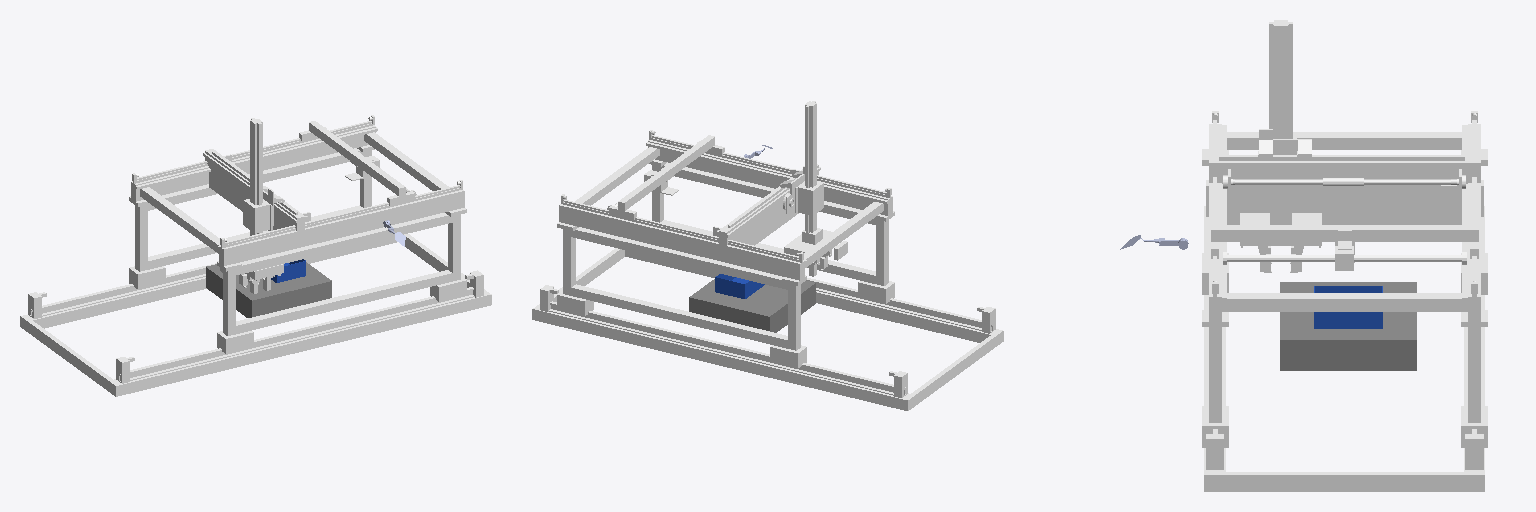
URDF robot description (assembly):
<?xml version="1.0" ?>
<!-- =================================================================================== -->
<!-- |    This document was autogenerated by xacro from assembly_rtfg_cpp/urdf/assembly_rtfg.urdf.xacro | -->
<!-- |    EDITING THIS FILE BY HAND IS NOT RECOMMENDED                                 | -->
<!-- =================================================================================== -->
<robot name="assembly">
  <material name="block_gray">
    <color rgba="0.6 0.6 0.6 0.8"/>
  </material>
  <material name="basin_blue">
    <color rgba="0.2 0.4 0.8 0.7"/>
  </material>
  <link name="sensor_shovel">
    <visual>
      <origin rpy="0 0 0" xyz="0 0 0"/>
      <geometry>
        <mesh filename="meshes/base_link.STL"/>
      </geometry>
      <material name="mat_sensor_shovel">
        <color rgba="0.79216078 0.81961176 0.92941569 1.00000000"/>
      </material>
    </visual>
    <collision>
      <origin rpy="0 0 0" xyz="0 0 0"/>
      <geometry>
        <mesh filename="meshes/base_link.STL"/>
      </geometry>
    </collision>
    <inertial>
      <origin rpy="0 0 0" xyz="-0.11585 0.0005511 0.051294"/>
      <mass value="2.3"/>
      <inertia ixx="0.0005331" ixy="0.0002664" ixz="0.0000158" iyy="0.0080026" iyz="0" izz="0.0082034"/>
    </inertial>
  </link>
  <link name="sensor_shovel_tcp">
    <visual>
      <origin rpy="0 0 0" xyz="0 0 0"/>
      <geometry>
        <mesh filename="meshes/shovel_tcp.STL"/>
      </geometry>
      <material name="mat_shovel_tcp">
        <color rgba="1.00000000 1.00000000 1.00000000 1.00000000"/>
      </material>
    </visual>
    <collision>
      <origin rpy="0 0 0" xyz="0 0 0"/>
      <geometry>
        <mesh filename="meshes/shovel_tcp.STL"/>
      </geometry>
    </collision>
    <inertial>
      <origin rpy="0 0 0" xyz="0 -0.0002919 -0.00005"/>
      <mass value="0"/>
      <inertia ixx="0" ixy="0" ixz="0" iyy="0" iyz="0" izz="0"/>
    </inertial>
  </link>
  <link name="ur10">
    <visual>
      <origin rpy="0 0 0" xyz="0 0 0"/>
      <geometry>
        <mesh filename="meshes/base.dae"/>
      </geometry>
      <material name="SWMaterial-2_001">
        <color rgba="0.37255294 0.37255294 0.37255294 1.00000000"/>
      </material>
    </visual>
    <collision>
      <origin rpy="0 0 0" xyz="0 0 0.019"/>
      <geometry>
        <cylinder length="0.038" radius="0.075"/>
      </geometry>
    </collision>
    <inertial>
      <origin rpy="0 0 0" xyz="0 0 0"/>
      <mass value="4"/>
      <inertia ixx="0.0061063" ixy="0" ixz="0" iyy="0.0061063" iyz="0" izz="0.01125"/>
    </inertial>
  </link>
  <link name="ur10_shoulder">
    <visual>
      <origin rpy="0 0 0" xyz="0 0 0"/>
      <geometry>
        <mesh filename="meshes/shoulder.dae"/>
      </geometry>
      <material name="SWMaterial-0">
        <color rgba="0.22353333 0.22353333 0.22353333 1.00000000"/>
      </material>
      <material name="SWMaterial-1">
        <color rgba="0.39216078 0.54118039 0.63921961 1.00000000"/>
      </material>
      <material name="SWMaterial-2">
        <color rgba="0.46274902 0.46274902 0.46274902 1.00000000"/>
      </material>
    </visual>
    <collision>
      <origin rpy="0 0 0" xyz="0 0 0"/>
      <geometry>
        <cylinder length="0.177" radius="0.075"/>
      </geometry>
    </collision>
    <inertial>
      <origin rpy="0 0 0" xyz="0 0 0"/>
      <mass value="7.778"/>
      <inertia ixx="0.0314743" ixy="0" ixz="0" iyy="0.0314743" iyz="0" izz="0.0218756"/>
    </inertial>
  </link>
  <link name="ur10_upper_arm">
    <visual>
      <origin rpy="0 0 0" xyz="0 0 0"/>
      <geometry>
        <mesh filename="meshes/upperarm.dae"/>
      </geometry>
      <material name="SWMaterial-0">
        <color rgba="0.22353333 0.22353333 0.22353333 1.00000000"/>
      </material>
      <material name="SWMaterial-1">
        <color rgba="0.39216078 0.54118039 0.63921961 1.00000000"/>
      </material>
      <material name="SWMaterial-2">
        <color rgba="0.46274902 0.46274902 0.46274902 1.00000000"/>
      </material>
      <material name="SWMaterial-3">
        <color rgba="0.65490588 0.65490588 0.65490588 1.00000000"/>
      </material>
    </visual>
    <collision>
      <origin rpy="1.5707 0 0" xyz="0 -0.045 0"/>
      <geometry>
        <cylinder length="0.177" radius="0.075"/>
      </geometry>
    </collision>
    <collision>
      <origin rpy="0 0 1.5707" xyz="0 -0.0436 0.32"/>
      <geometry>
        <cylinder length="0.461" radius="0.058"/>
      </geometry>
    </collision>
    <collision>
      <origin rpy="1.5707 0 0" xyz="0 -0.04 0.613"/>
      <geometry>
        <cylinder length="0.129" radius="0.058"/>
      </geometry>
    </collision>
    <inertial>
      <origin rpy="0 0 0" xyz="0 0 0.306"/>
      <mass value="12.93"/>
      <inertia ixx="0.421754" ixy="0" ixz="0" iyy="0.421754" iyz="0" izz="0.0363656"/>
    </inertial>
  </link>
  <link name="ur10_forearm">
    <visual>
      <origin rpy="0 0 0" xyz="0 0 0"/>
      <geometry>
        <mesh filename="meshes/forearm.dae"/>
      </geometry>
      <material name="SWMaterial-0">
        <color rgba="0.22353333 0.22353333 0.22353333 1.00000000"/>
      </material>
      <material name="SWMaterial-1">
        <color rgba="0.39216078 0.54118039 0.63921961 1.00000000"/>
      </material>
      <material name="SWMaterial-2">
        <color rgba="0.46274902 0.46274902 0.46274902 1.00000000"/>
      </material>
      <material name="SWMaterial-3">
        <color rgba="0.65490588 0.65490588 0.65490588 1.00000000"/>
      </material>
      <material name="SWMaterial-4">
        <color rgba="0.07843529 0.07843529 0.07843529 1.00000000"/>
      </material>
    </visual>
    <collision>
      <origin rpy="1.5707 0 0" xyz="0 0 0.001"/>
      <geometry>
        <cylinder length="0.136" radius="0.058"/>
      </geometry>
    </collision>
    <collision>
      <origin rpy="0 0 1.5707" xyz="0 0 0.305"/>
      <geometry>
        <cylinder length="0.447" radius="0.045"/>
      </geometry>
    </collision>
    <collision>
      <origin rpy="1.5707 0 0" xyz="0 0.001 0.5735"/>
      <geometry>
        <cylinder length="0.119" radius="0.045"/>
      </geometry>
    </collision>
    <inertial>
      <origin rpy="0 0 0" xyz="0 0 0.28615"/>
      <mass value="3.87"/>
      <inertia ixx="0.11107" ixy="0" ixz="0" iyy="0.11107" iyz="0" izz="0.0108844"/>
    </inertial>
  </link>
  <link name="ur10_wrist_1">
    <visual>
      <origin rpy="0 0 0" xyz="0 0 0"/>
      <geometry>
        <mesh filename="meshes/wrist1.dae"/>
      </geometry>
      <material name="SWMaterial-0_001">
        <color rgba="0.22353333 0.22353333 0.22353333 1.00000000"/>
      </material>
      <material name="SWMaterial-1_001">
        <color rgba="0.39216078 0.54118039 0.63921961 1.00000000"/>
      </material>
      <material name="SWMaterial-2_001">
        <color rgba="0.46274902 0.46274902 0.46274902 1.00000000"/>
      </material>
    </visual>
    <collision>
      <origin rpy="0 0 0" xyz="0 0.115 0.0025"/>
      <geometry>
        <cylinder length="0.119" radius="0.0455"/>
      </geometry>
    </collision>
    <inertial>
      <origin rpy="0 0 0" xyz="0 0 0"/>
      <mass value="1.96"/>
      <inertia ixx="0.0051082" ixy="0" ixz="0" iyy="0.0051082" iyz="0" izz="0.0055125"/>
    </inertial>
  </link>
  <link name="ur10_wrist_2">
    <visual>
      <origin rpy="0 0 0" xyz="0 0 0"/>
      <geometry>
        <mesh filename="meshes/wrist2.dae"/>
      </geometry>
      <material name="SWMaterial-0_002">
        <color rgba="0.22353333 0.22353333 0.22353333 1.00000000"/>
      </material>
      <material name="SWMaterial-1_002">
        <color rgba="0.39216078 0.54118039 0.63921961 1.00000000"/>
      </material>
      <material name="SWMaterial-2_002">
        <color rgba="0.46274902 0.46274902 0.46274902 1.00000000"/>
      </material>
    </visual>
    <collision>
      <origin rpy="1.5707 0 0" xyz="0 0.002 0.11659"/>
      <geometry>
        <cylinder length="0.119" radius="0.0455"/>
      </geometry>
    </collision>
    <inertial>
      <origin rpy="0 0 0" xyz="0 0 0"/>
      <mass value="1.96"/>
      <inertia ixx="0.0051082" ixy="0" ixz="0" iyy="0.0051082" iyz="0" izz="0.0055125"/>
    </inertial>
  </link>
  <link name="ur10_wrist_3">
    <visual>
      <origin rpy="0 0 0" xyz="0 0 0"/>
      <geometry>
        <mesh filename="meshes/wrist3.dae"/>
      </geometry>
      <material name="SWMaterial-2_003">
        <color rgba="0.46274902 0.46274902 0.46274902 1.00000000"/>
      </material>
    </visual>
    <collision>
      <origin rpy="1.5707 0 0" xyz="0 0.0765 0"/>
      <geometry>
        <cylinder length="0.031" radius="0.045"/>
      </geometry>
    </collision>
    <inertial>
      <origin rpy="0 0 0" xyz="0 0 0"/>
      <mass value="0.202"/>
      <inertia ixx="0.0005265" ixy="0" ixz="0" iyy="0.0005265" iyz="0" izz="0.0005681"/>
    </inertial>
  </link>
  <link name="base_jizuo">
    <visual>
      <origin rpy="0 0 0" xyz="0 0 0"/>
      <geometry>
        <mesh filename="meshes/base_link_world_jizuo.STL"/>
      </geometry>
      <material name="mat_base_jizuo">
        <color rgba="1.00000000 1.00000000 1.00000000 1.00000000"/>
      </material>
    </visual>
    <collision>
      <origin rpy="0 0 0" xyz="0 0 0"/>
      <geometry>
        <mesh filename="meshes/base_link_world_jizuo.STL"/>
      </geometry>
    </collision>
    <inertial>
      <origin rpy="0 0 0" xyz="-1.8696 -0.046752 0.24794"/>
      <mass value="1499.1"/>
      <inertia ixx="1126.8" ixy="-0.036857" ixz="0.0017432" iyy="2608.5" iyz="-18.236" izz="3614.6"/>
    </inertial>
  </link>
  <link name="base_jizuo_base_ur10_with_dizuo">
    <visual>
      <origin rpy="0 0 0" xyz="0 0 0"/>
      <geometry>
        <mesh filename="meshes/base_ur10_with_dizuo.STL"/>
      </geometry>
      <material name="mat_base_ur10_with_dizuo">
        <color rgba="1.00000000 1.00000000 1.00000000 1.00000000"/>
      </material>
    </visual>
    <collision>
      <origin rpy="0 0 0" xyz="0 0 0"/>
      <geometry>
        <mesh filename="meshes/base_ur10_with_dizuo.STL"/>
      </geometry>
    </collision>
    <inertial>
      <origin rpy="0 0 0" xyz="0 0 0.005"/>
      <mass value="0.225"/>
      <inertia ixx="0.0004237" ixy="0" ixz="0" iyy="0.0004237" iyz="0" izz="0.0008437"/>
    </inertial>
  </link>
  <link name="block_with_basin_frame"/>
  <link name="block_basin_base_link"/>
  <link name="block_basin_block">
    <visual>
      <geometry>
        <box size="1.0 1.0 0.25"/>
      </geometry>
      <material name="block_gray"/>
    </visual>
    <collision>
      <geometry>
        <box size="1.0 1.0 0.25"/>
      </geometry>
    </collision>
  </link>
  <link name="block_basin_bottom">
    <visual>
      <geometry>
        <box size="0.37 0.50 0.003"/>
      </geometry>
      <material name="basin_blue"/>
    </visual>
    <collision>
      <geometry>
        <box size="0.37 0.50 0.003"/>
      </geometry>
    </collision>
  </link>
  <link name="block_basin_front_wall">
    <visual>
      <geometry>
        <box size="0.37 0.003 0.18"/>
      </geometry>
      <material name="basin_blue"/>
    </visual>
    <collision>
      <geometry>
        <box size="0.37 0.003 0.18"/>
      </geometry>
    </collision>
  </link>
  <link name="block_basin_back_wall">
    <visual>
      <geometry>
        <box size="0.37 0.003 0.18"/>
      </geometry>
      <material name="basin_blue"/>
    </visual>
    <collision>
      <geometry>
        <box size="0.37 0.003 0.18"/>
      </geometry>
    </collision>
  </link>
  <link name="block_basin_left_wall">
    <visual>
      <geometry>
        <box size="0.003 0.494 0.18"/>
      </geometry>
      <material name="basin_blue"/>
    </visual>
    <collision>
      <geometry>
        <box size="0.003 0.494 0.18"/>
      </geometry>
    </collision>
  </link>
  <link name="block_basin_right_wall">
    <visual>
      <geometry>
        <box size="0.003 0.494 0.18"/>
      </geometry>
      <material name="basin_blue"/>
    </visual>
    <collision>
      <geometry>
        <box size="0.003 0.494 0.18"/>
      </geometry>
    </collision>
  </link>
  <joint name="sensor_shovel_tcp_fixed" type="fixed">
    <parent link="sensor_shovel"/>
    <child link="sensor_shovel_tcp"/>
    <origin rpy="-1.5708 1.5708 -0.61087" xyz="-0.47377 0.077109 0.0733"/>
  </joint>
  <joint name="ur10_shoulder_pan" type="revolute">
    <parent link="ur10"/>
    <child link="ur10_shoulder"/>
    <origin rpy="0 0 0" xyz="0 0 0.1273"/>
    <axis xyz="0 0 1"/>
    <limit effort="330" lower="-6.28319" upper="6.28319" velocity="2.16"/>
  </joint>
  <joint name="ur10_shoulder_lift" type="revolute">
    <parent link="ur10_shoulder"/>
    <child link="ur10_upper_arm"/>
    <origin rpy="0 1.57079 0" xyz="0 0.220941 0"/>
    <axis xyz="0 1 0"/>
    <limit effort="330" lower="-6.28319" upper="6.28319" velocity="2.16"/>
  </joint>
  <joint name="ur10_elbow" type="revolute">
    <parent link="ur10_upper_arm"/>
    <child link="ur10_forearm"/>
    <origin rpy="0 0 0" xyz="-0.0000039 -0.1719 0.612"/>
    <axis xyz="0 1 0"/>
    <limit effort="150" lower="-6.28319" upper="6.28319" velocity="3.15"/>
  </joint>
  <joint name="ur10_wrist_1" type="revolute">
    <parent link="ur10_forearm"/>
    <child link="ur10_wrist_1"/>
    <origin rpy="0 1.5707895 0.0000027" xyz="-0.0000036 0 0.5723"/>
    <axis xyz="0 1 0"/>
    <limit effort="54" lower="-6.28319" upper="6.28319" velocity="3.2"/>
  </joint>
  <joint name="ur10_wrist_2" type="revolute">
    <parent link="ur10_wrist_1"/>
    <child link="ur10_wrist_2"/>
    <origin rpy="0 0 0" xyz="0.0000003 0.1149 0.0000003"/>
    <axis xyz="0 0 -1"/>
    <limit effort="54" lower="-6.28319" upper="6.28319" velocity="3.2"/>
  </joint>
  <joint name="ur10_wrist_3" type="revolute">
    <parent link="ur10_wrist_2"/>
    <child link="ur10_wrist_3"/>
    <origin rpy="0 0 0" xyz="0 -0.0000003 0.1157"/>
    <axis xyz="0 1 0"/>
    <limit effort="54" lower="-6.28319" upper="6.28319" velocity="3.2"/>
  </joint>
  <joint name="base_jizuo_square_place" type="fixed">
    <parent link="base_jizuo"/>
    <child link="base_jizuo_base_ur10_with_dizuo"/>
    <origin rpy="3.1416 0 -1.5708" xyz="-0.78172 -0.025653 1.1638"/>
  </joint>
  <joint name="ur10-sensor_shovel" type="fixed">
    <parent link="ur10_wrist_3"/>
    <child link="sensor_shovel"/>
    <origin quat_xyzw="-0.5 0.5 0.5 0.5" rpy="-1.5707963 0 0" xyz="0 0.09 0"/>
  </joint>
  <joint name="base_jizuo-ur10" type="fixed">
    <parent link="base_jizuo_base_ur10_with_dizuo"/>
    <child link="ur10"/>
    <origin quat_xyzw="0 0 0.70710678 0.70710678" rpy=" 0 0 0" xyz="0 0 0"/>
  </joint>
  <joint name="base_jizuo_to_block_with_basin_frame" type="fixed">
    <parent link="base_jizuo"/>
    <child link="block_with_basin_frame"/>
    <origin rpy="0.000000000000 0.000000000000 3.141592653590" xyz="-1.830000 0.000000 0.000000"/>
  </joint>
  <joint name="block_frame_to_base" type="fixed">
    <parent link="block_with_basin_frame"/>
    <child link="block_basin_base_link"/>
    <origin rpy="0 0 0" xyz="0 0 0"/>
  </joint>
  <joint name="block_joint" type="fixed">
    <parent link="block_basin_base_link"/>
    <child link="block_basin_block"/>
    <origin rpy="0 0 0" xyz="0 0 0.125"/>
  </joint>
  <joint name="basin_base_joint" type="fixed">
    <parent link="block_basin_base_link"/>
    <child link="block_basin_bottom"/>
    <origin rpy="0 0 0" xyz="-0.135 0 0.25"/>
  </joint>
  <joint name="basin_front_joint" type="fixed">
    <parent link="block_basin_bottom"/>
    <child link="block_basin_front_wall"/>
    <origin rpy="0 0 0" xyz="0 0.2485 0.09"/>
  </joint>
  <joint name="basin_back_joint" type="fixed">
    <parent link="block_basin_bottom"/>
    <child link="block_basin_back_wall"/>
    <origin rpy="0 0 0" xyz="0 -0.2485 0.09"/>
  </joint>
  <joint name="basin_left_joint" type="fixed">
    <parent link="block_basin_bottom"/>
    <child link="block_basin_left_wall"/>
    <origin rpy="0 0 0" xyz="-0.1835 0 0.09"/>
  </joint>
  <joint name="basin_right_joint" type="fixed">
    <parent link="block_basin_bottom"/>
    <child link="block_basin_right_wall"/>
    <origin rpy="0 0 0" xyz="0.1835 0 0.09"/>
  </joint>
  <ros2_control name="assembly" type="system">
    <hardware>
      <plugin>gazebo_ros2_control/GazeboSystem</plugin>
    </hardware>
    <joint name="ur10_shoulder_pan">
      <command_interface name="position"/>
      <state_interface name="position">
        <param name="initial_value">2.0474984645843506</param>
      </state_interface>
      <state_interface name="velocity"/>
    </joint>
    <joint name="ur10_shoulder_lift">
      <command_interface name="position"/>
      <state_interface name="position">
        <param name="initial_value">0.21928656101226807</param>
      </state_interface>
      <state_interface name="velocity"/>
    </joint>
    <joint name="ur10_elbow">
      <command_interface name="position"/>
      <state_interface name="position">
        <param name="initial_value">-1.9548214117633265</param>
      </state_interface>
      <state_interface name="velocity"/>
    </joint>
    <joint name="ur10_wrist_1">
      <command_interface name="position"/>
      <state_interface name="position">
        <param name="initial_value">-0.35923797289003545</param>
      </state_interface>
      <state_interface name="velocity"/>
    </joint>
    <joint name="ur10_wrist_2">
      <command_interface name="position"/>
      <state_interface name="position">
        <param name="initial_value">2.0502676963806152</param>
      </state_interface>
      <state_interface name="velocity"/>
    </joint>
    <joint name="ur10_wrist_3">
      <command_interface name="position"/>
      <state_interface name="position">
        <param name="initial_value">1.0330829620361328</param>
      </state_interface>
      <state_interface name="velocity"/>
    </joint>
  </ros2_control>
  <gazebo>
    <plugin filename="libgazebo_ros2_control.so" name="gazebo_ros2_control">
      <robot_param>robot_description</robot_param>
      <robot_param_node>robot_state_publisher</robot_param_node>
    </plugin>
  </gazebo>
</robot>

--- Facts derived from the render (not from the file) ---
The picture shows the robot from 3 angles, left to right: view 1: azimuth 30°, elevation 25°; view 2: azimuth 150°, elevation 25°; view 3: azimuth 270°, elevation 25°; orthographic projection.
Model assembly with 19 links and 18 joints (6 revolute, 12 fixed), rooted at base_jizuo, posed every joint at zero.
Links seen in each view (by area): view 1: base_jizuo, block_basin_block; view 2: base_jizuo, block_basin_block; view 3: base_jizuo, block_basin_block, block_basin_left_wall.
Boxes of the visible links, box(x1,y1,x2,y2) form: base_jizuo: box(20, 115, 491, 396); block_basin_block: box(206, 262, 331, 317); base_jizuo: box(532, 101, 1003, 410); block_basin_block: box(689, 279, 815, 332); base_jizuo: box(1202, 20, 1487, 491); block_basin_block: box(1280, 282, 1416, 370); block_basin_left_wall: box(1315, 312, 1381, 328).
Size in the robot's own frame: 4.68 by 3.05 by 2.57 metres.
Meshes: 11 distinct files referenced, 4 mesh visuals loaded (4 binary STL); not drawn: 7 (reference not matched to a file when rendering).
